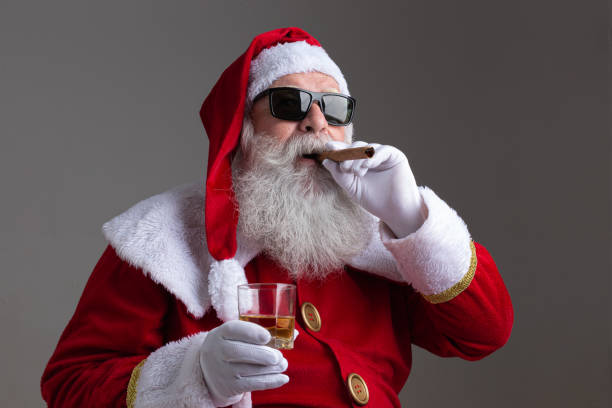alcohol: (236, 283, 299, 349)
cigarette: (314, 146, 377, 161)
